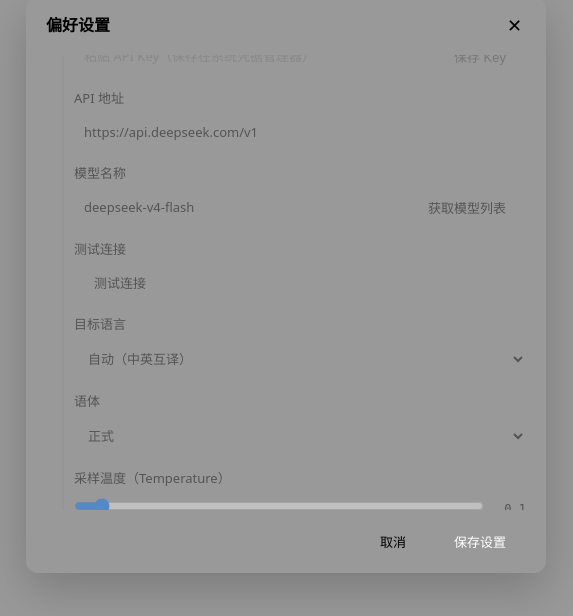
v0.6.0 SettingsDialog AI 翻译分组 › 测试连接成功：显示连接成功状态
(page scrolled)
Click the button with test id "translate-test-btn" at (120, 283), box [74,265,166,300]
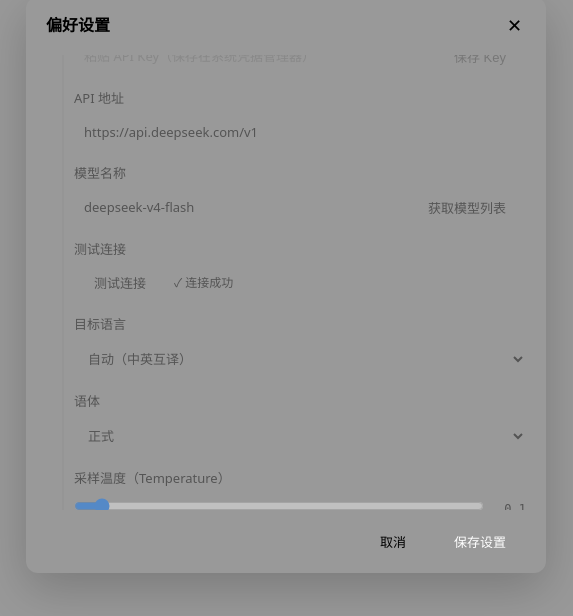
Expected: the text with test id "translate-test-status" shows "连接成功", [185,274,233,291]
